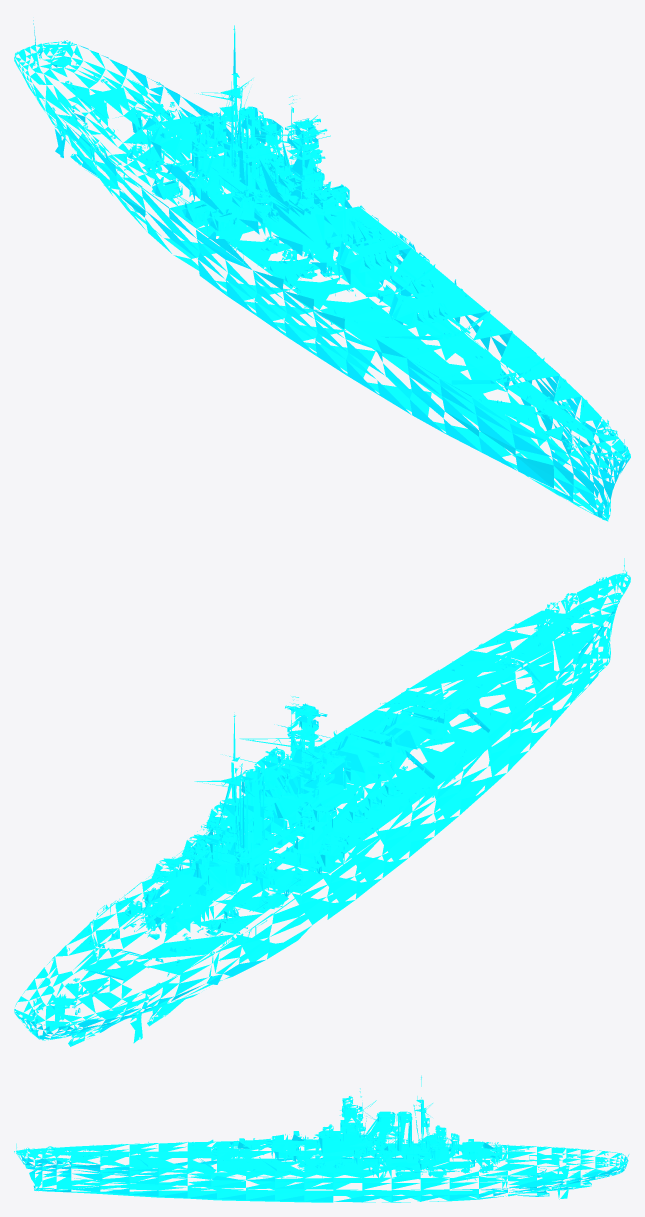
The model's file is PRSB719.glb.
3 renders of one model, top to bottom at view 1: azimuth 30°, elevation 25°; view 2: azimuth 150°, elevation 25°; view 3: azimuth 270°, elevation 25°, orthographic. The views are drawn at different scales.
Parts seen in each view (by area): view 1: hull, turret; view 2: hull, turret; view 3: hull, turret.
Boxes of the visible parts, x1,y1,x2,y2 form: hull: [14, 20, 630, 521]; turret: [123, 95, 470, 338]; hull: [14, 558, 630, 1046]; turret: [123, 690, 470, 934]; hull: [14, 1075, 629, 1202]; turret: [189, 1088, 524, 1177].
Bounding box in the file's own units: 2.26 × 3.51 × 16.96.
